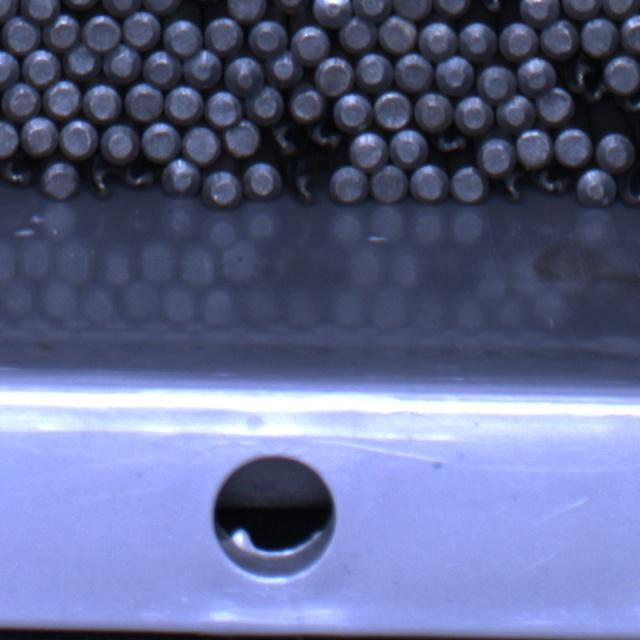tool: (141, 120, 182, 162), (59, 118, 99, 159), (419, 19, 460, 59), (100, 122, 140, 163), (475, 62, 516, 102), (458, 19, 497, 61), (82, 83, 122, 123), (349, 130, 389, 170), (19, 116, 59, 156), (315, 55, 355, 95), (395, 52, 435, 92), (435, 56, 475, 96), (101, 43, 141, 83), (388, 127, 428, 167), (292, 23, 332, 63), (44, 79, 83, 120), (41, 12, 82, 51), (576, 167, 615, 208), (414, 91, 453, 131), (409, 164, 449, 203), (517, 55, 556, 95), (540, 19, 580, 58), (20, 49, 60, 88), (374, 90, 413, 130), (226, 54, 265, 94), (536, 86, 575, 126), (161, 158, 200, 198), (515, 127, 553, 168), (596, 130, 634, 171), (125, 83, 164, 122), (82, 12, 121, 51), (164, 85, 203, 124), (370, 164, 409, 203), (330, 164, 369, 203), (181, 125, 220, 164), (500, 21, 539, 60), (41, 159, 80, 198), (163, 19, 203, 57), (142, 50, 182, 88), (0, 84, 40, 122), (554, 126, 592, 166), (581, 16, 619, 56), (184, 50, 224, 88), (62, 42, 102, 80), (456, 95, 494, 135), (494, 94, 534, 132), (201, 168, 241, 206), (334, 92, 374, 130), (243, 161, 280, 202), (206, 16, 245, 54), (3, 16, 42, 54), (354, 52, 392, 91), (222, 120, 261, 158), (246, 86, 284, 125), (376, 16, 416, 53), (476, 136, 514, 174), (123, 12, 162, 49), (248, 20, 287, 57), (604, 53, 640, 93), (266, 51, 304, 88), (337, 17, 376, 53), (205, 89, 242, 126), (450, 165, 487, 202), (288, 86, 324, 123), (312, 0, 352, 26), (517, 0, 558, 25), (226, 0, 267, 22), (619, 12, 640, 53), (18, 0, 60, 20), (352, 0, 392, 21), (560, 0, 602, 19), (393, 0, 434, 19), (0, 50, 19, 89), (0, 120, 19, 158), (434, 0, 474, 16), (142, 0, 184, 15), (266, 0, 311, 14), (102, 0, 143, 15), (603, 0, 640, 16), (60, 0, 102, 10), (0, 0, 19, 21)
tool_b: (281, 159, 327, 209), (563, 58, 602, 94), (266, 121, 303, 157), (431, 128, 472, 160), (83, 162, 119, 198), (307, 120, 344, 154), (536, 166, 574, 198), (122, 162, 160, 193), (0, 158, 35, 191), (498, 170, 528, 205), (619, 166, 640, 213), (618, 86, 640, 116), (476, 0, 516, 15)
